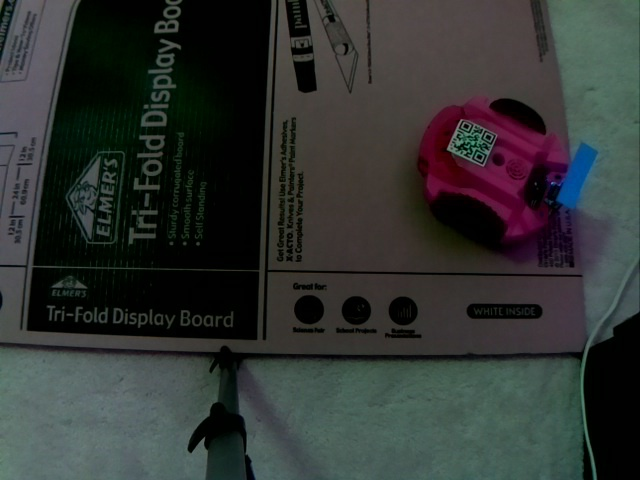board: (552, 138, 597, 208)
chassis: (416, 92, 600, 249)
